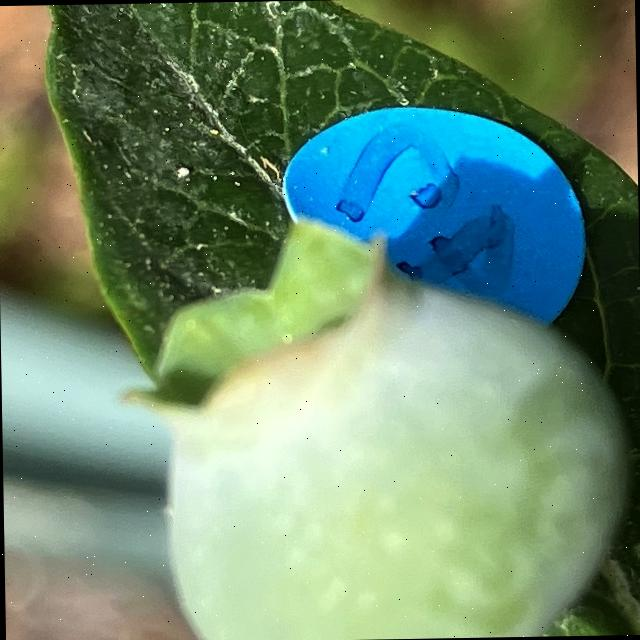Blueberries: (121, 203, 640, 640)
